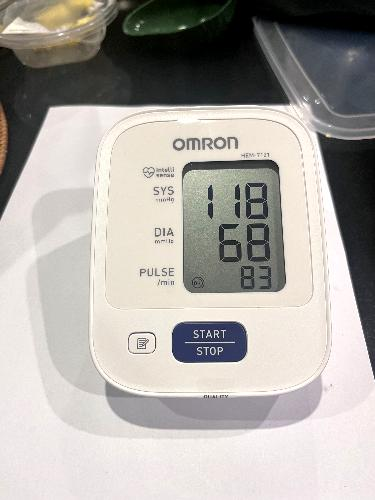bpm: (174, 160, 289, 300)
